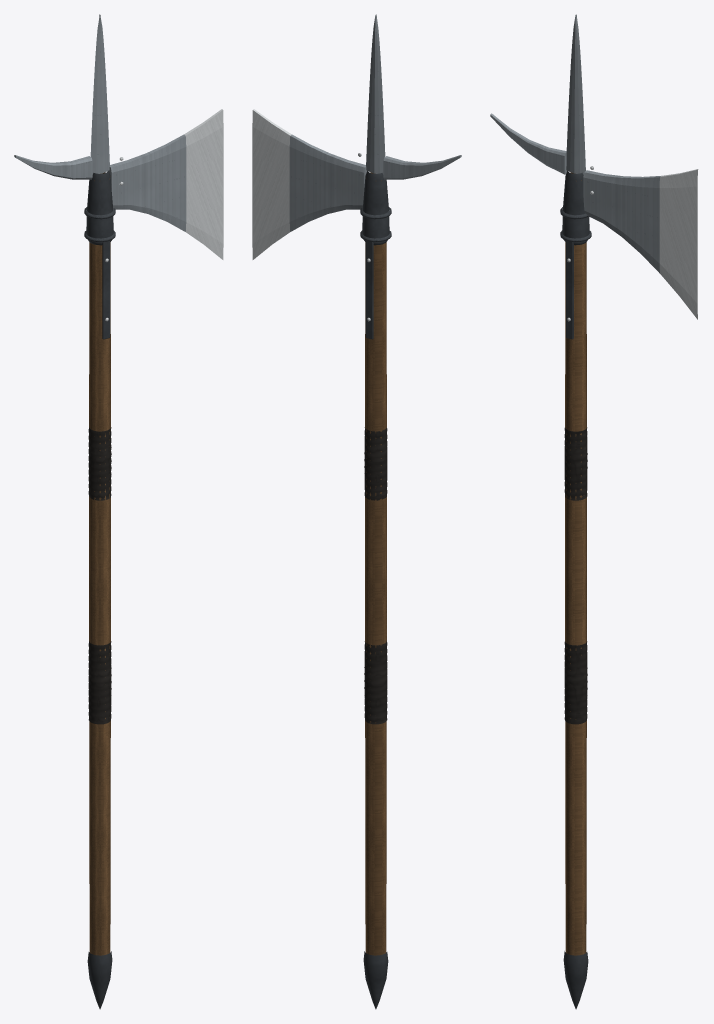
The model's file is halberd.lod1.glb.
3 views of the same model, side by side, from view 1: azimuth 30°, elevation 25°; view 2: azimuth 150°, elevation 25°; view 3: azimuth 330°, elevation 25° (orthographic).
Visible parts, largest first — view 1: wood / oiled hardwood, steel / forged blade steel, edge / honed bright bevel, darksteel / oil-blackened fittings, leather / oiled leather wrap; view 2: wood / oiled hardwood, steel / forged blade steel, edge / honed bright bevel, darksteel / oil-blackened fittings, leather / oiled leather wrap; view 3: wood / oiled hardwood, steel / forged blade steel, edge / honed bright bevel, leather / oiled leather wrap, darksteel / oil-blackened fittings.
Boxes of the visible parts, x1=… form: wood / oiled hardwood: x1=89, y1=172, x2=110, y2=955; steel / forged blade steel: x1=14, y1=14, x2=186, y2=231; edge / honed bright bevel: x1=105, y1=109, x2=223, y2=321; darksteel / oil-blackened fittings: x1=84, y1=170, x2=115, y2=1009; leather / oiled leather wrap: x1=88, y1=427, x2=111, y2=724; wood / oiled hardwood: x1=365, y1=172, x2=386, y2=955; steel / forged blade steel: x1=289, y1=14, x2=461, y2=231; edge / honed bright bevel: x1=252, y1=109, x2=370, y2=321; darksteel / oil-blackened fittings: x1=360, y1=170, x2=391, y2=1009; leather / oiled leather wrap: x1=364, y1=427, x2=387, y2=724; wood / oiled hardwood: x1=565, y1=172, x2=586, y2=955; steel / forged blade steel: x1=490, y1=14, x2=660, y2=273; edge / honed bright bevel: x1=567, y1=166, x2=698, y2=321; leather / oiled leather wrap: x1=564, y1=427, x2=587, y2=724; darksteel / oil-blackened fittings: x1=560, y1=170, x2=591, y2=1009.
Bounding box in the file's own units: 0.44 × 2.02 × 0.0582.
Materials: 5 (5 with a texture image).
